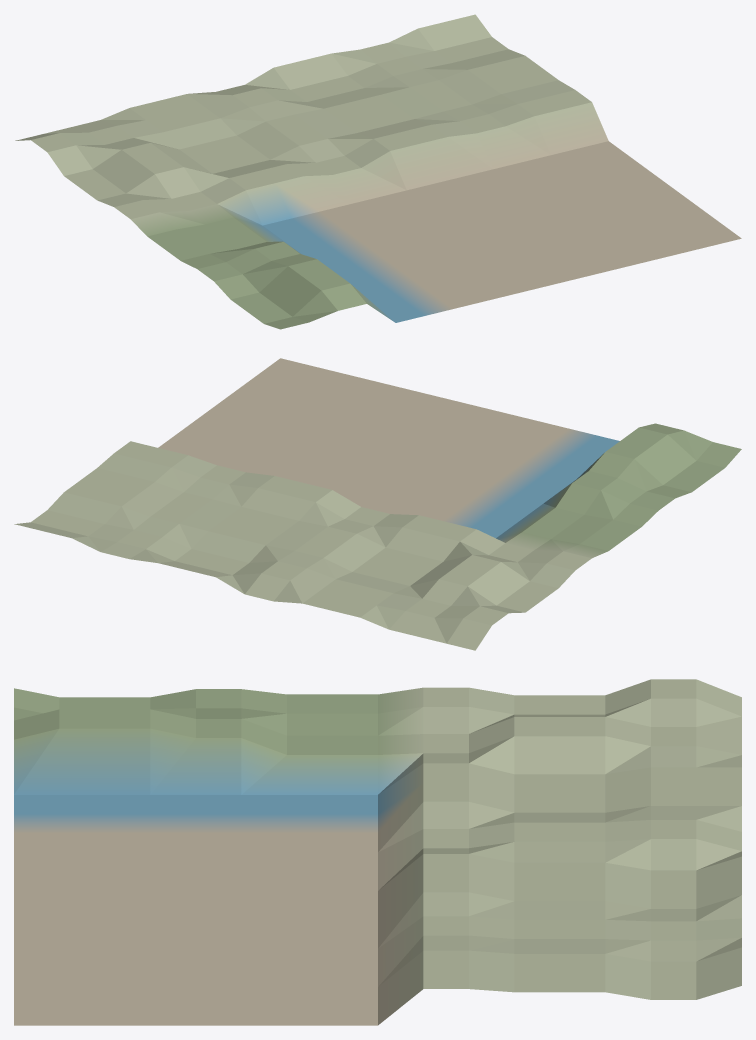
The picture shows the model from 3 angles, top to bottom: view 1: azimuth 30°, elevation 25°; view 2: azimuth 150°, elevation 25°; view 3: azimuth 270°, elevation 25°; orthographic projection. The views are drawn at different scales.
Bounding box in the file's own units: 32 × 2.28 × 32.
